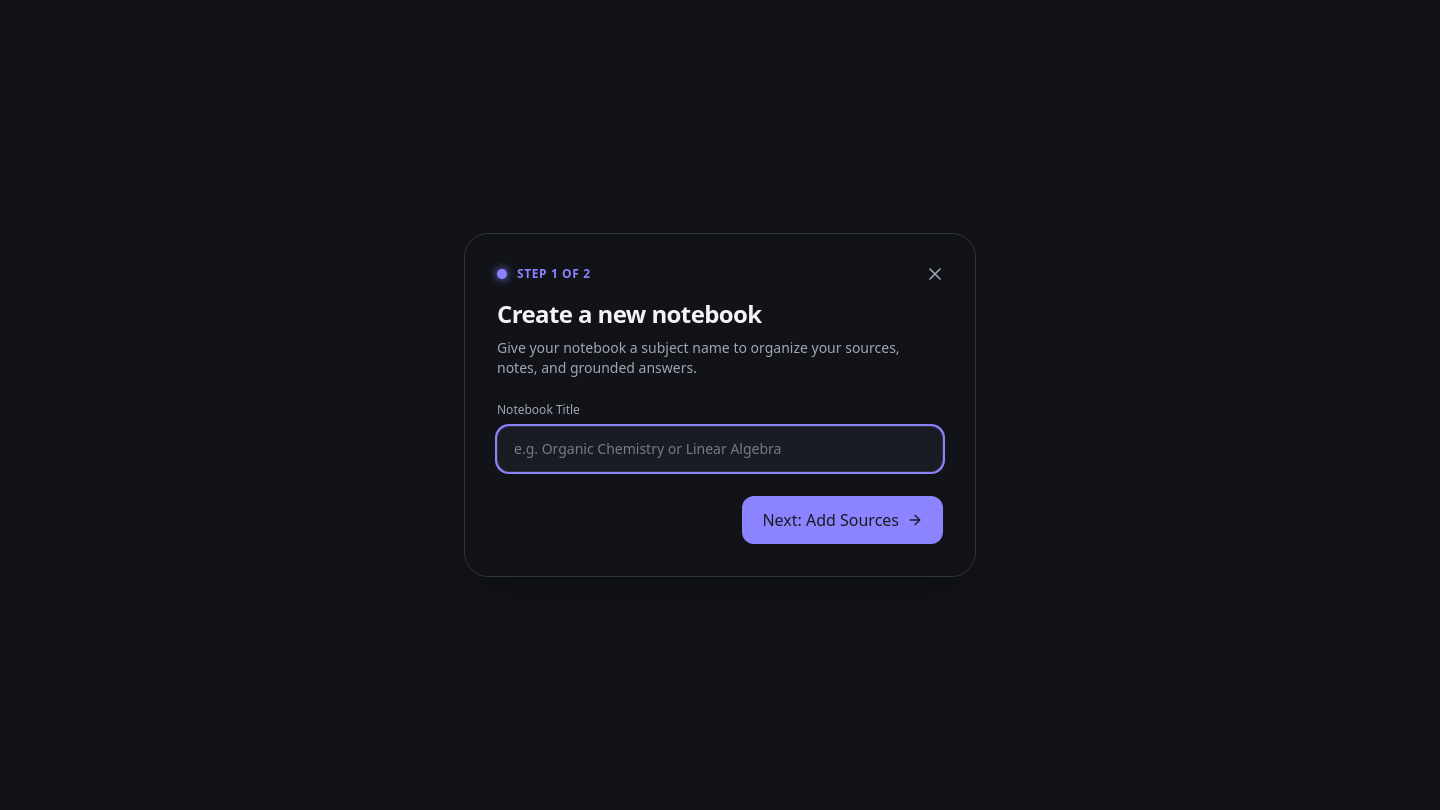
Adversarial Stress Verification: Phase 3 Auth & Onboarding Modals › 6. Validation & Network Failure Resilience › displays network error message when API call completely fails with Network Error
Type "Failing Subject" into the field with test id "onboarding-notebook-title-input" at (720, 449), box [497, 426, 943, 472]
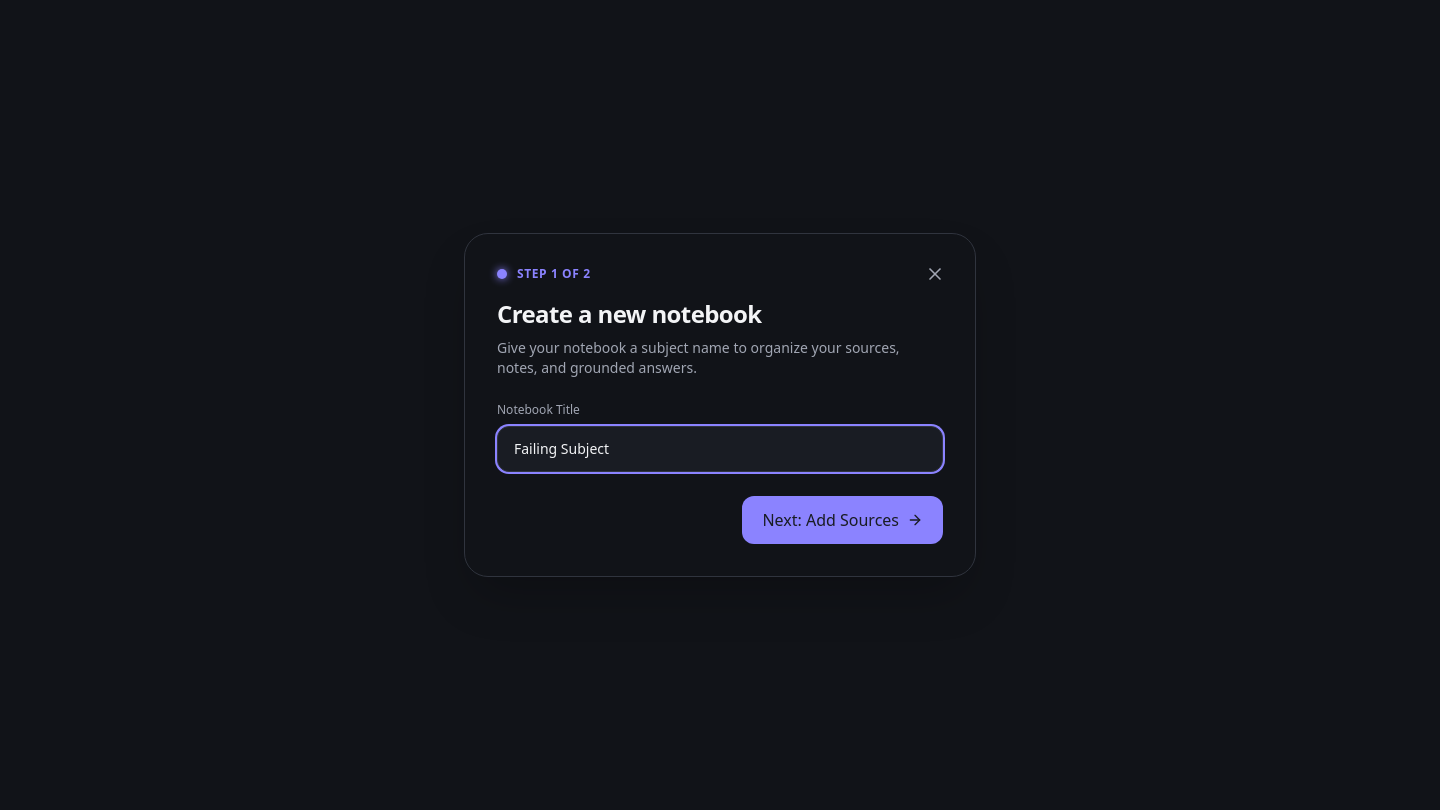
Click the button with test id "onboarding-notebook-submit-btn" at (843, 520), box [742, 496, 943, 544]
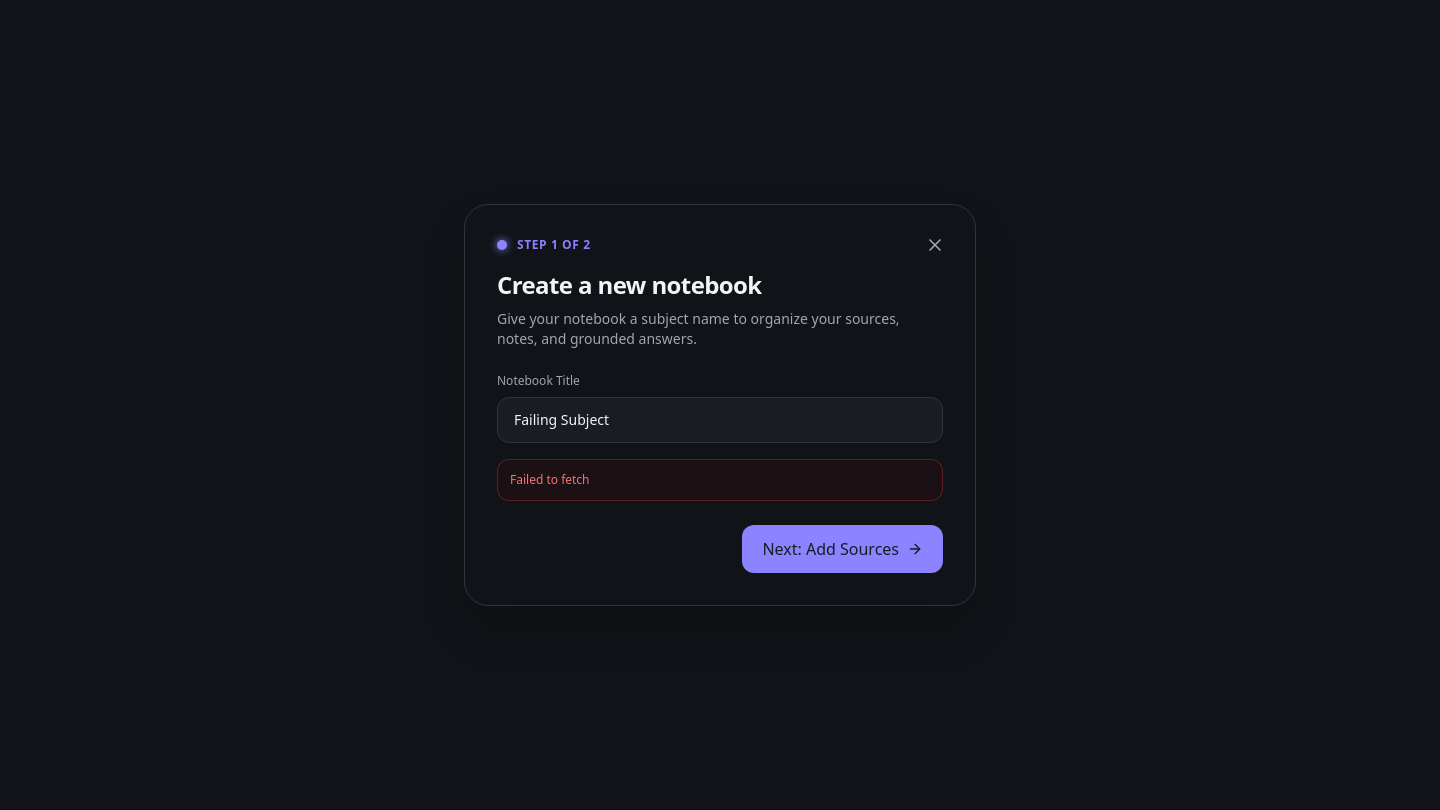
Expected: the field with test id "onboarding-notebook-title-input" is enabled, [497, 397, 943, 443]
Expected: the message "Failed to fetch" is shown, [497, 459, 943, 501]
Expected: the message reads "Failed to fetch", [510, 471, 590, 488]
